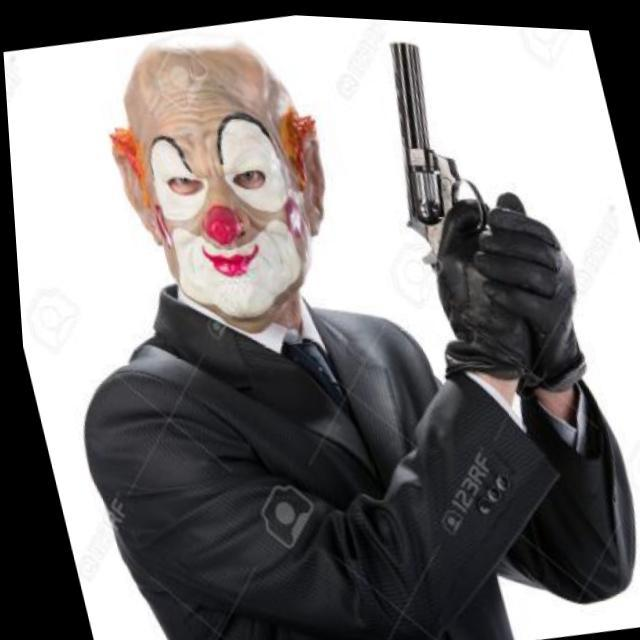weapon: (344, 14, 567, 328)
